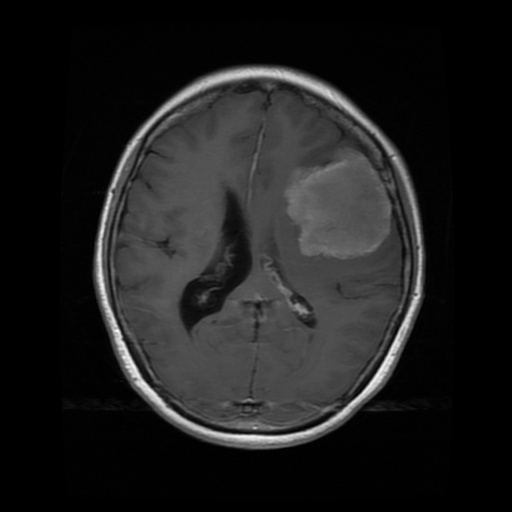meningioma: (283, 146, 391, 257)
